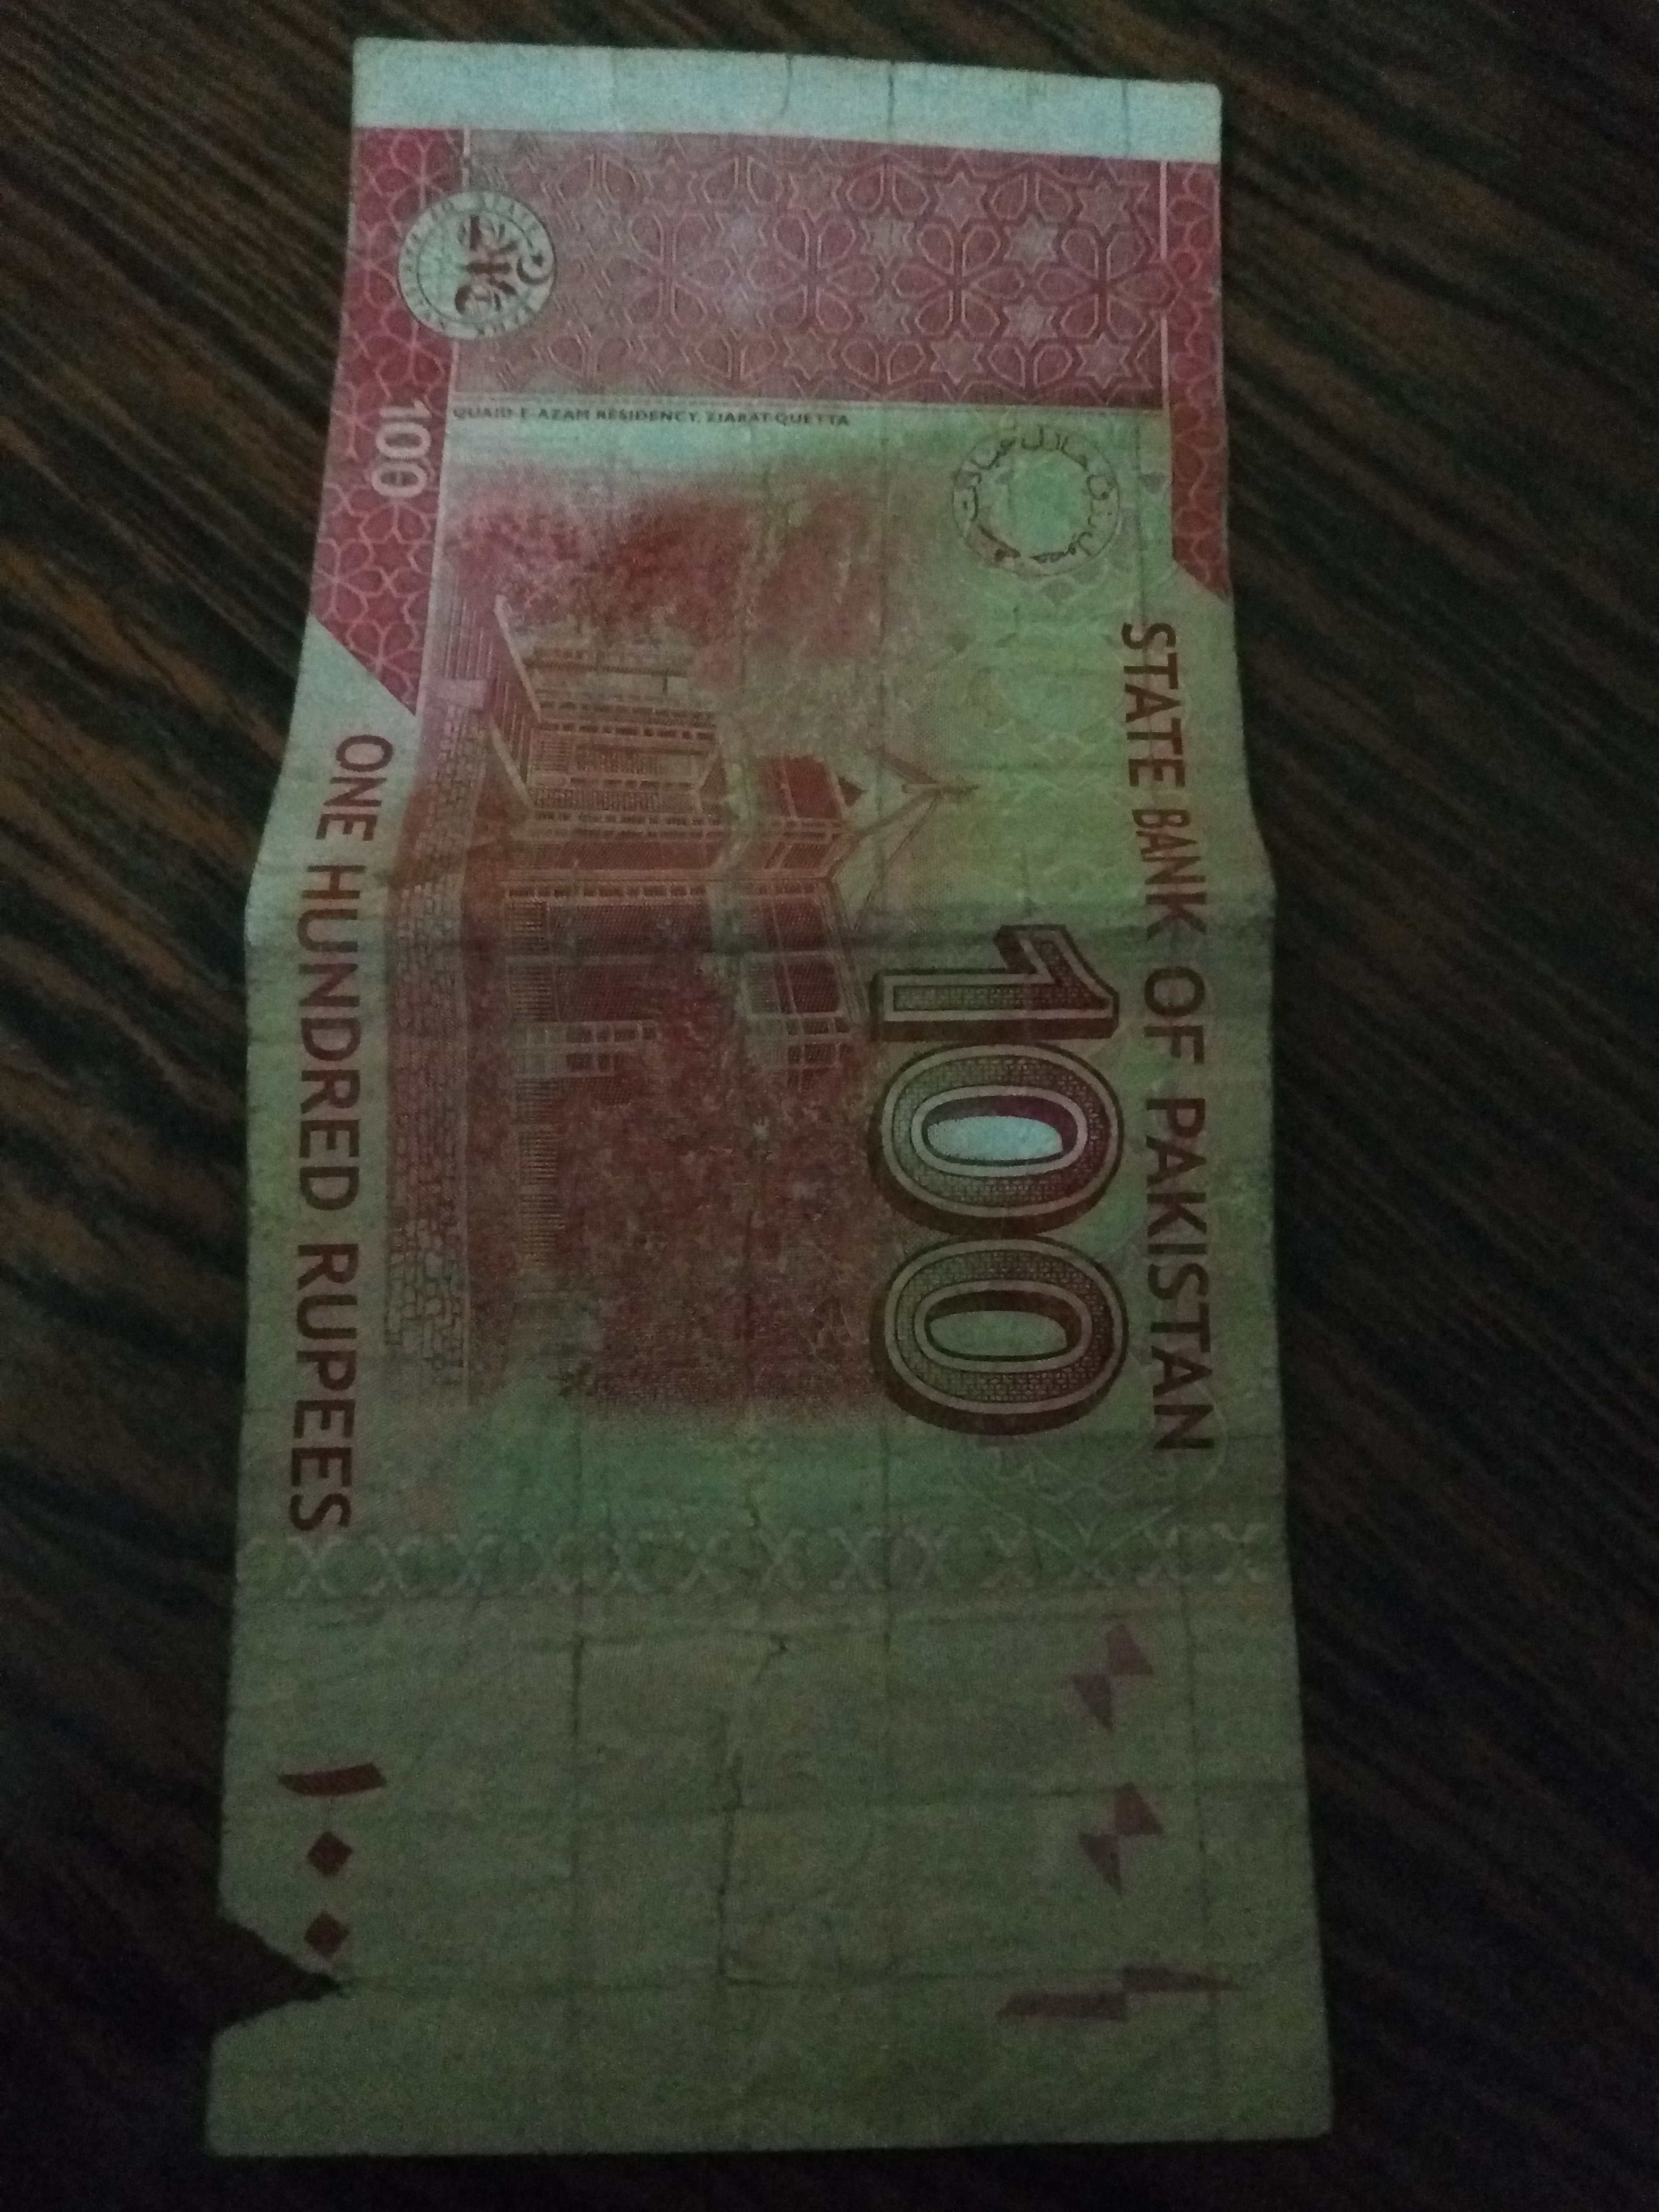100 rupee: (227, 28, 1342, 2170)
